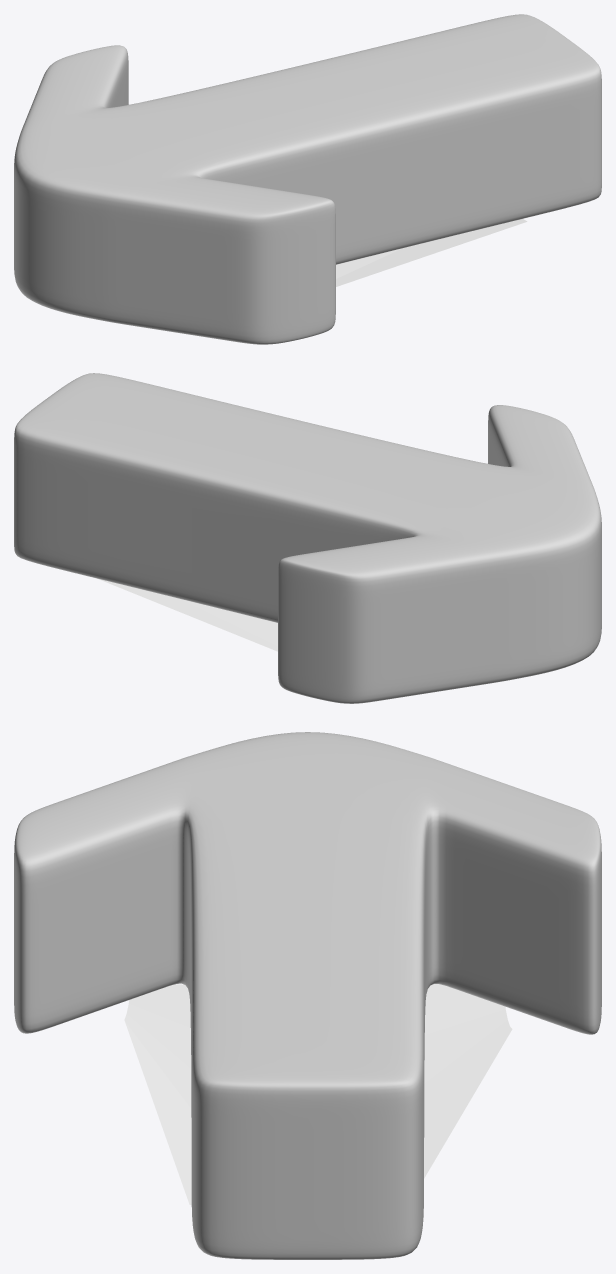
The model's file is VR福笑いボタン - もどる（白地）.fbx.
The picture shows the model from 3 angles, top to bottom: view 1: azimuth 30°, elevation 25°; view 2: azimuth 150°, elevation 25°; view 3: azimuth 270°, elevation 25°; orthographic projection. The views are drawn at different scales.
Parts seen in each view (by area): view 1: 平面.002, 繧ゅ→繧吶ｋ_black; view 2: 平面.002, 繧ゅ→繧吶ｋ_black; view 3: 平面.002, 繧ゅ→繧吶ｋ_black.
Boxes of the visible parts, <box> form: 平面.002: <box>14,14,601,344</box>; 繧ゅ→繧吶ｋ_black: <box>336,219,527,286</box>; 平面.002: <box>14,373,601,703</box>; 繧ゅ→繧吶ｋ_black: <box>97,578,277,651</box>; 平面.002: <box>14,732,601,1259</box>; 繧ゅ→繧吶ｋ_black: <box>124,984,512,1205</box>.
Size of the model in its own units: 3022 by 716 by 2086.
2 materials, 1 textured.
